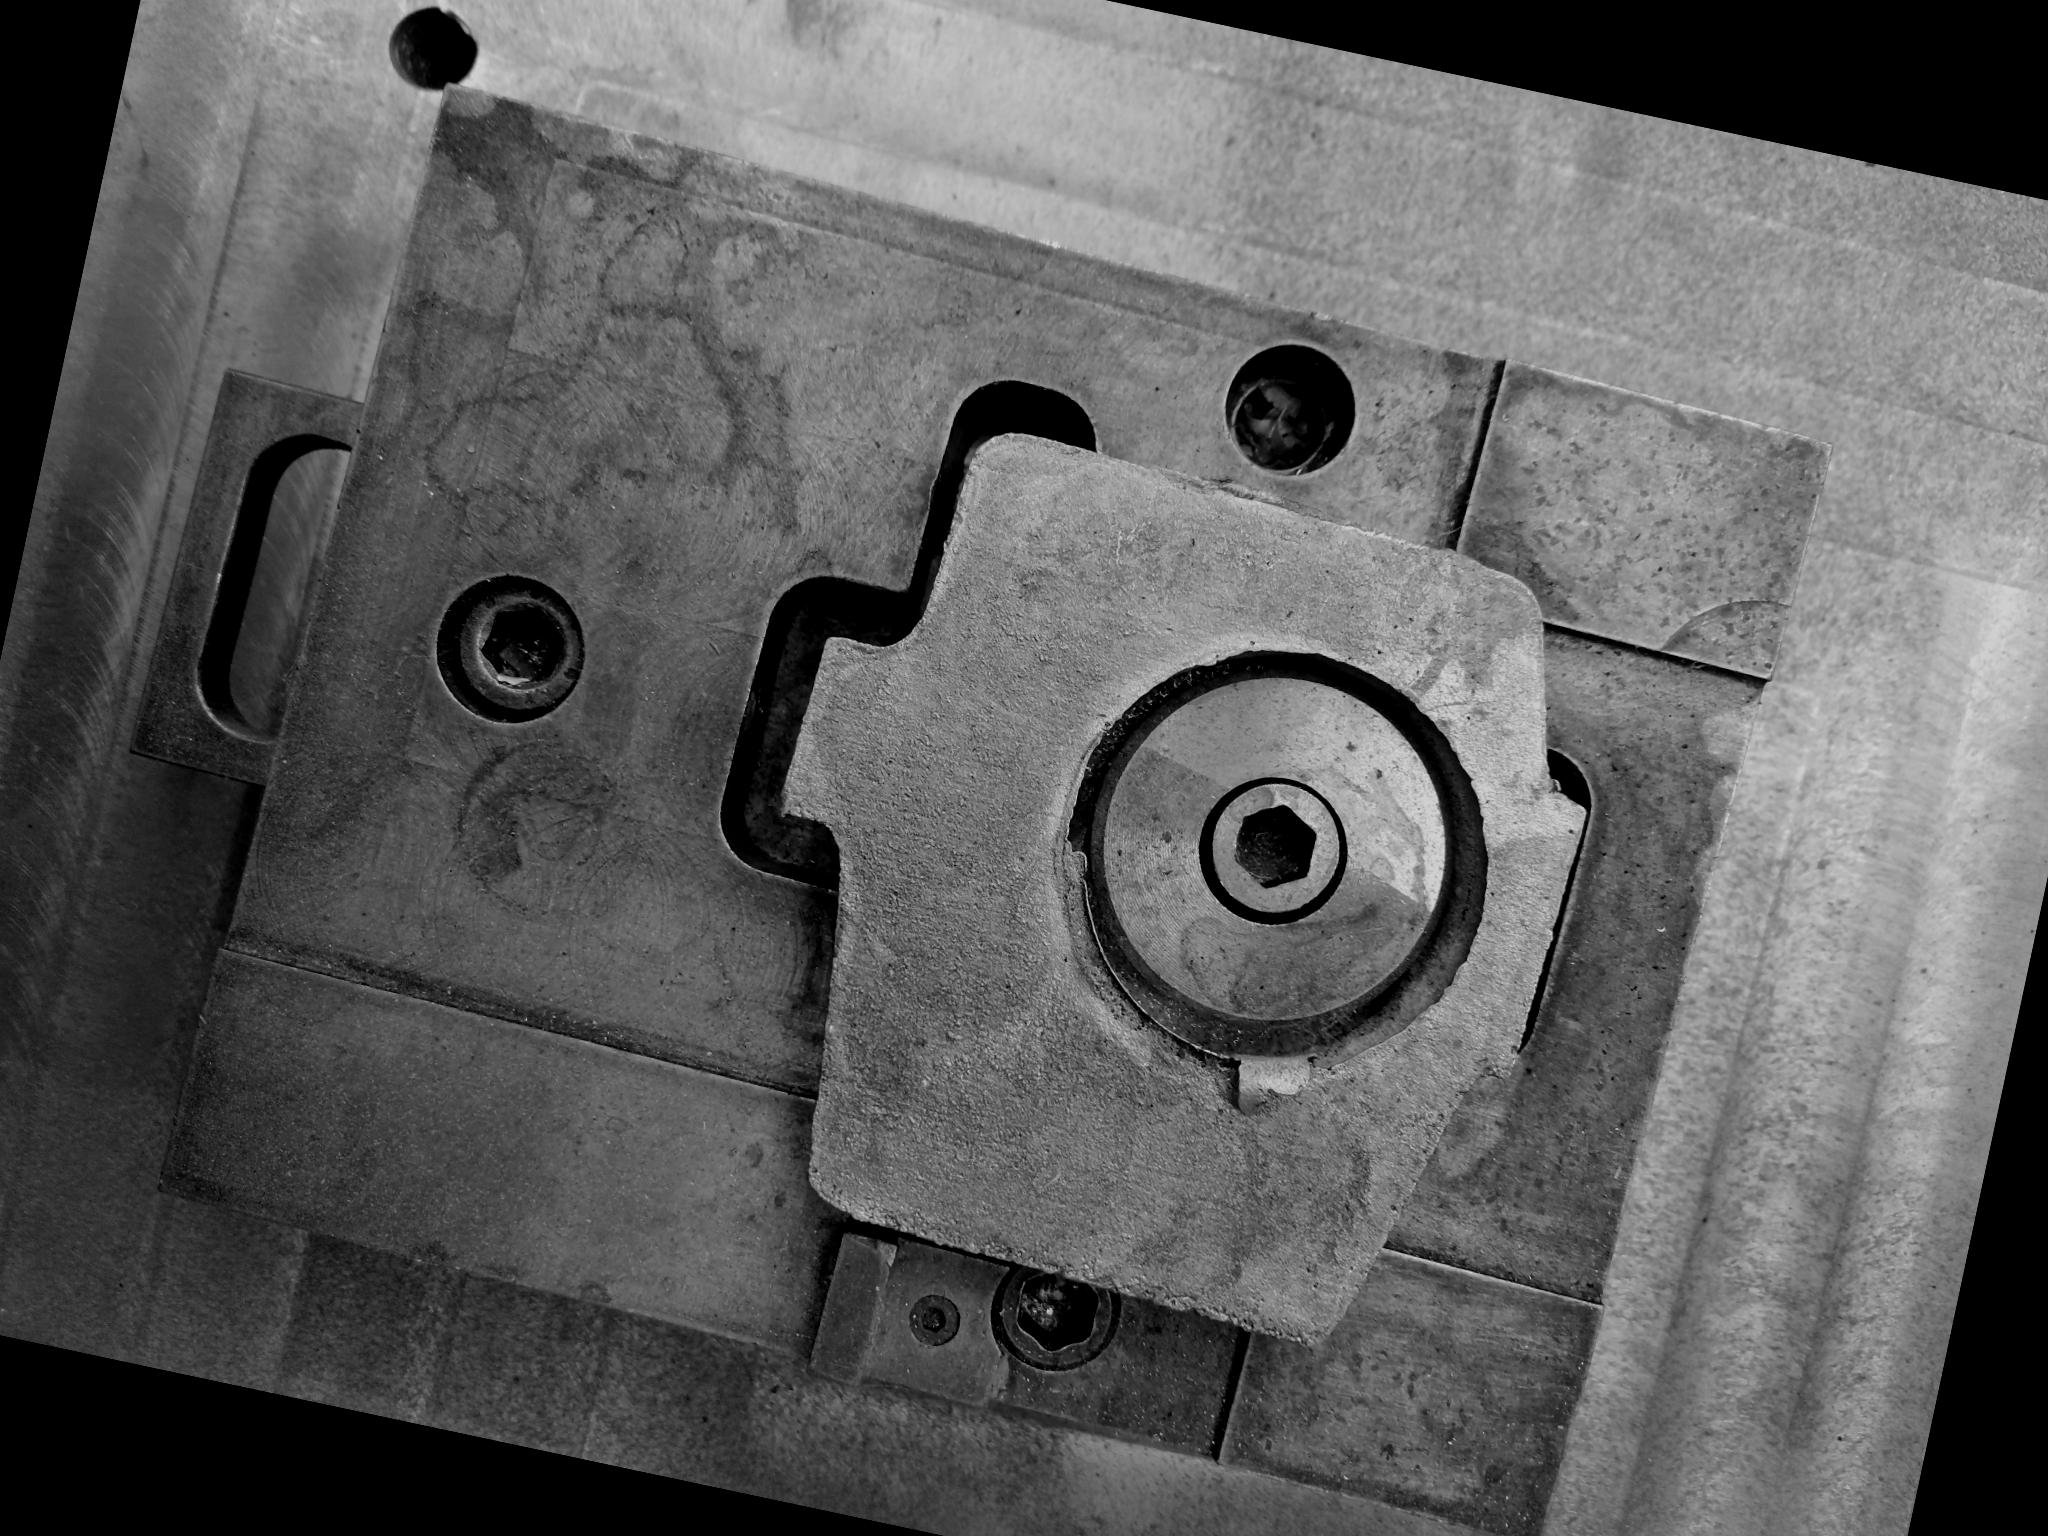allen: (1185, 762, 1377, 945), (434, 555, 610, 736), (977, 1246, 1135, 1388), (901, 1284, 971, 1355)
